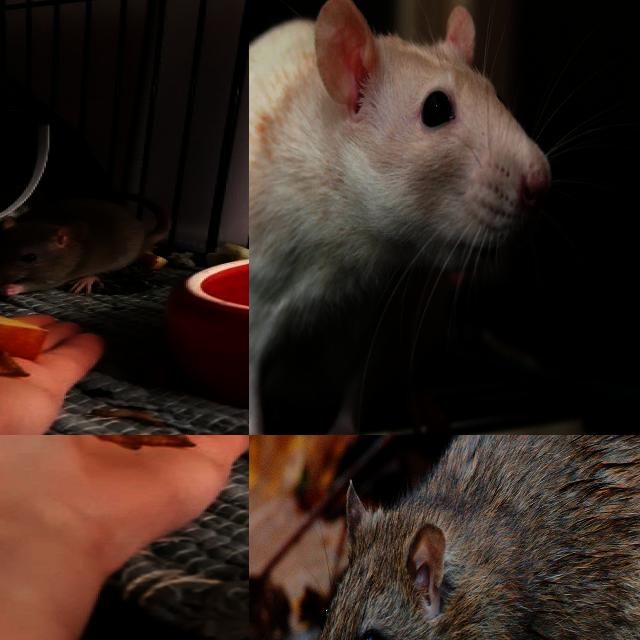rat: (249, 0, 554, 435), (290, 435, 640, 640), (0, 198, 147, 297)
